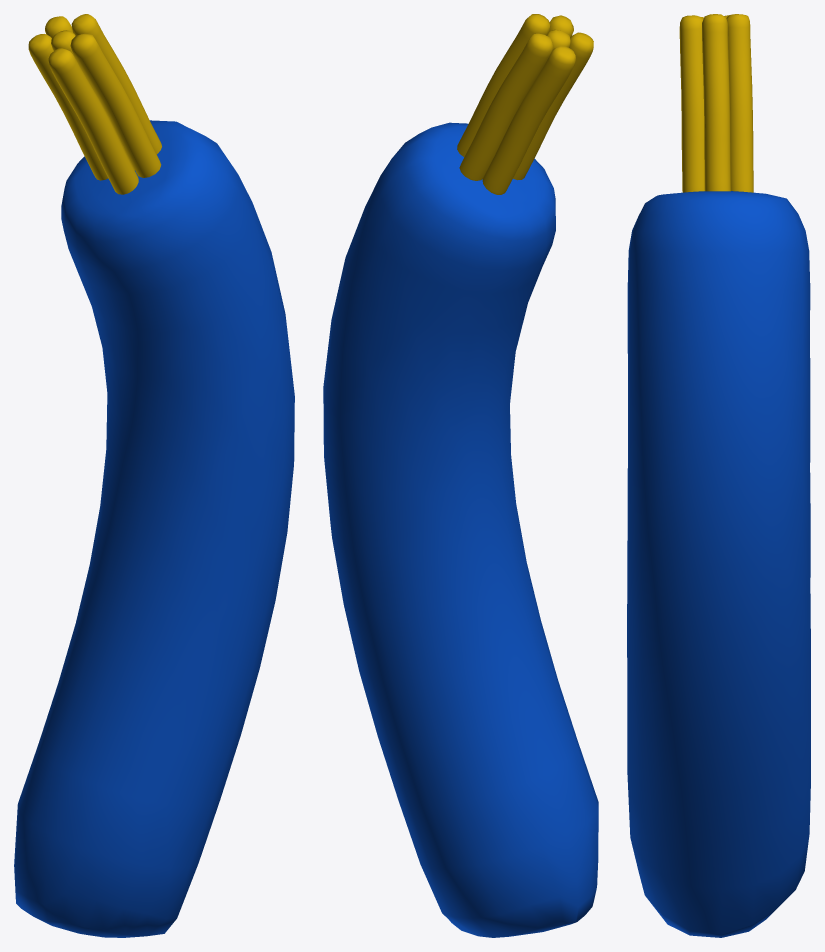
Rendered from Cable.fbx.
The picture shows the model from 3 angles, left to right: view 1: azimuth 30°, elevation 25°; view 2: azimuth 150°, elevation 25°; view 3: azimuth 270°, elevation 25°; orthographic projection. The views are drawn at different scales.
Visible parts, largest first — view 1: Cable, Cable.004; view 2: Cable, Cable.004; view 3: Cable, Cable.004.
Boxes of the visible parts, box(x1,y1,x2,y2) form: Cable: box(14, 120, 294, 937); Cable.004: box(28, 14, 161, 194); Cable: box(323, 122, 598, 937); Cable.004: box(457, 14, 593, 194); Cable: box(627, 191, 810, 937); Cable.004: box(679, 14, 753, 192).
Size of the model in its own units: 139 by 475 by 89.38.
